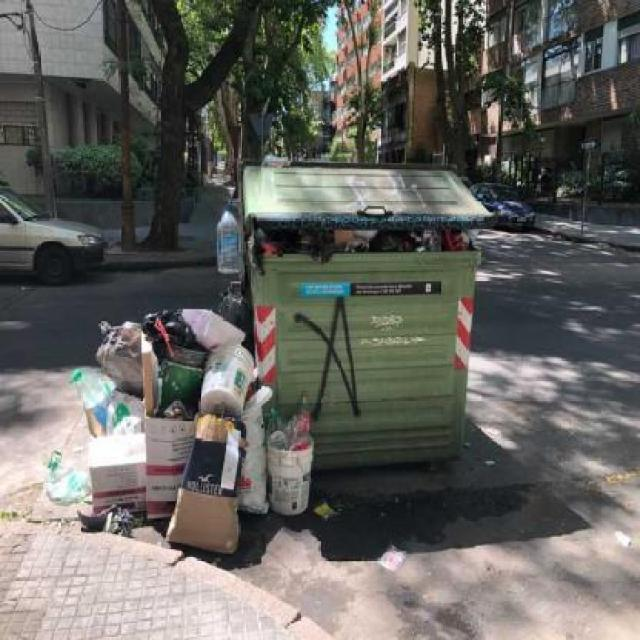garbage: (69, 310, 349, 536), (228, 225, 496, 259), (205, 173, 251, 339)
